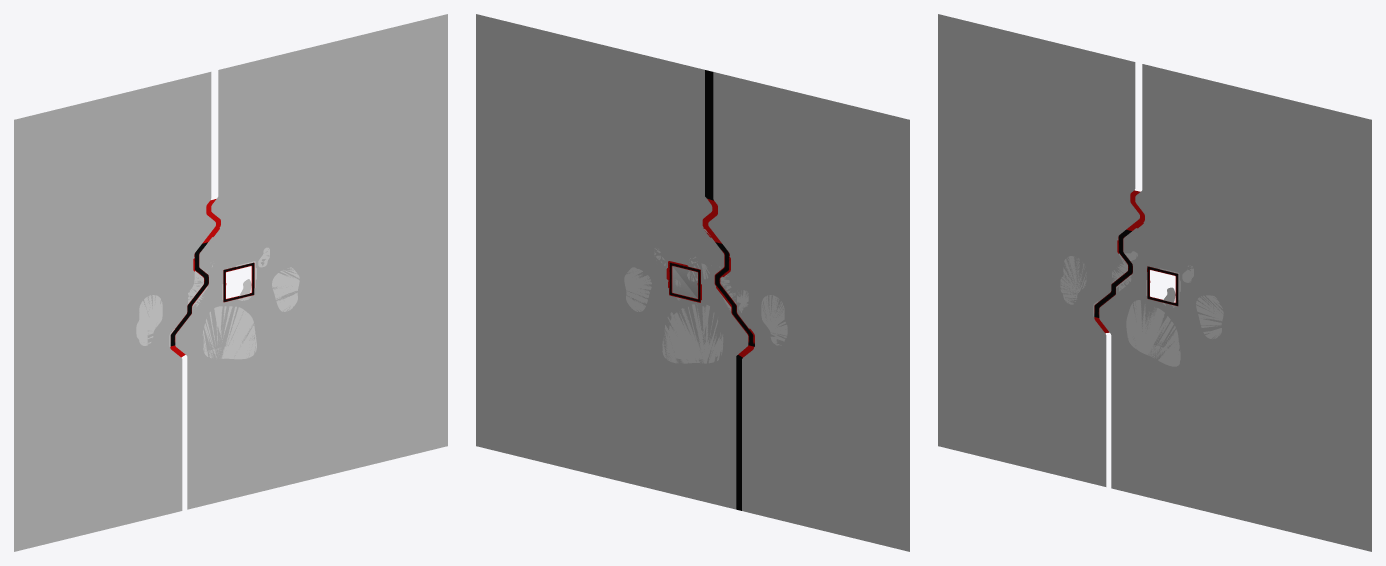
The model's file is ChiangMai.glb.
The picture shows the model from 3 angles, left to right: view 1: azimuth 30°, elevation 25°; view 2: azimuth 150°, elevation 25°; view 3: azimuth 330°, elevation 25°; orthographic projection.
Parts seen in each view (by area): view 1: MSH_MAP_Chiang-Mai_ExtendedLand, ChiangMai_Land, Grass_4, ChiangMai_Water, Grass_5, Grass_2; view 2: MSH_MAP_Chiang-Mai_ExtendedLand, ChiangMai_Land, MSH_MAP_Chiang-Mai_ExtendedWater, ChiangMai_Water, Grass_4 (1), Grass_4, Grass_5, Grass_2; view 3: MSH_MAP_Chiang-Mai_ExtendedLand, ChiangMai_Land, Grass_4, ChiangMai_Water, Grass_5, Grass_2.
Part boxes in pixels (bbox=[...]): MSH_MAP_Chiang-Mai_ExtendedLand: bbox=[14, 14, 447, 551]; ChiangMai_Land: bbox=[147, 178, 293, 368]; Grass_4: bbox=[202, 306, 256, 359]; ChiangMai_Water: bbox=[170, 199, 254, 357]; Grass_5: bbox=[136, 295, 162, 345]; Grass_2: bbox=[272, 267, 299, 311]; MSH_MAP_Chiang-Mai_ExtendedLand: bbox=[476, 14, 909, 551]; ChiangMai_Land: bbox=[630, 178, 776, 368]; MSH_MAP_Chiang-Mai_ExtendedWater: bbox=[705, 70, 742, 510]; ChiangMai_Water: bbox=[666, 199, 754, 357]; Grass_4 (1): bbox=[662, 304, 723, 363]; Grass_4: bbox=[667, 306, 721, 359]; Grass_5: bbox=[761, 295, 787, 345]; Grass_2: bbox=[624, 267, 651, 311]; MSH_MAP_Chiang-Mai_ExtendedLand: bbox=[938, 14, 1371, 551]; ChiangMai_Land: bbox=[1071, 175, 1217, 360]; Grass_4: bbox=[1126, 300, 1180, 366]; ChiangMai_Water: bbox=[1094, 190, 1178, 333]; Grass_5: bbox=[1060, 256, 1086, 304]; Grass_2: bbox=[1196, 295, 1223, 339].
Size of the model in its own units: 361 by 344 by 0.5368.
5 materials, 2 textured.
